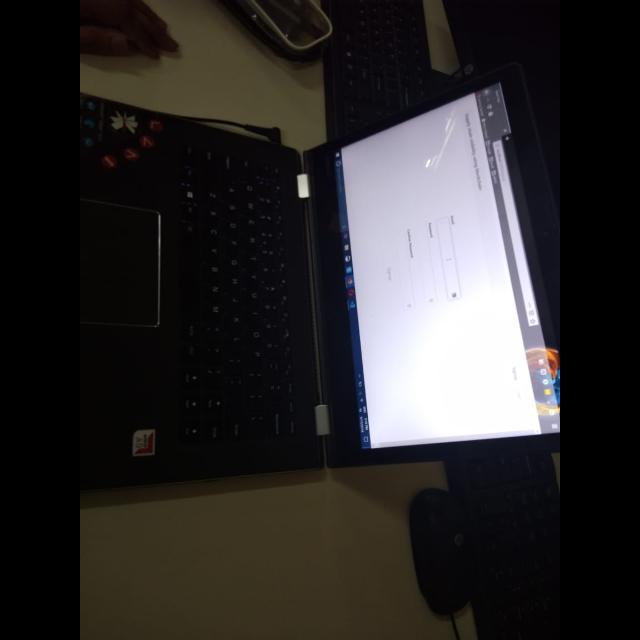Laptop: (80, 43, 560, 510)
